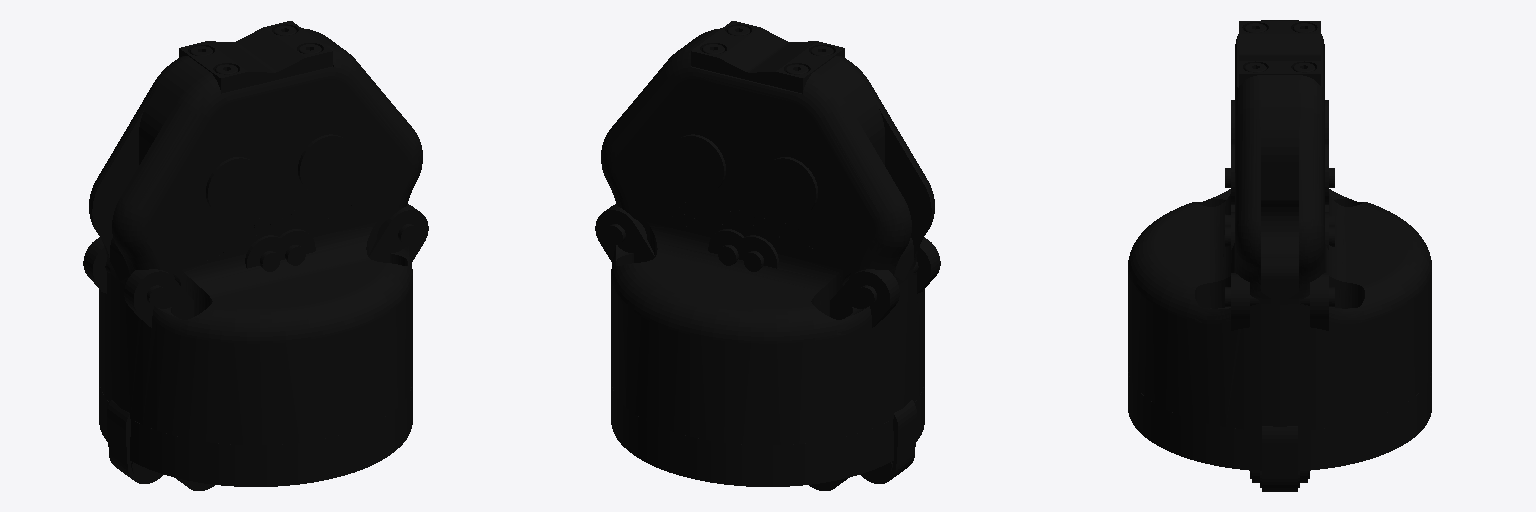
The robot description file, URDF, robot "robotiq_2f85_description":
<robot
  name="robotiq_2f85_description">
  <link
    name="robotiq_base">
    <inertial>
      <origin
        xyz="0.00021987 -2.3546E-10 0.030163"
        rpy="0 0 0" />
      <mass
        value="0.30915" />
      <inertia
        ixx="0.00028972"
        ixy="-5.7879E-10"
        ixz="-1.8543E-06"
        iyy="0.00030737"
        iyz="1.682E-12"
        izz="0.00019914" />
    </inertial>
    <visual>
      <origin
        xyz="0 0 0"
        rpy="0 0 0" />
      <geometry>
        <mesh
          filename="visual/robotiq_base_fine.obj" />
      </geometry>
      <material
        name="">
        <color
          rgba="0.1 0.1 0.1 1" />
      </material>
    </visual>
    <collision>
      <origin
        xyz="0 0 0"
        rpy="0 0 0" />
      <geometry>
        <mesh
          filename="collision/robotiq_base_coarse.obj" />
      </geometry>
    </collision>
  </link>
  <link
    name="left_outer_knuckle">
    <inertial>
      <origin
        xyz="0.0178331863169983 3.68915177224286E-11 0.0021442477325704"
        rpy="0 0 0" />
      <mass
        value="0.00684838849434396" />
      <inertia
        ixx="2.66832029033166E-07"
        ixy="1.66142314639824E-15"
        ixz="1.45945633322873E-07"
        iyy="1.3889233257419E-06"
        iyz="2.82951161241588E-15"
        izz="1.26603336914415E-06" />
    </inertial>
    <visual>
      <origin
        xyz="0 0 0"
        rpy="0 0 0" />
      <geometry>
        <mesh
          filename="visual/outer_knuckle_fine.obj" />
      </geometry>
      <material
        name="">
        <color
          rgba="0.1 0.1 0.1 1" />
      </material>
    </visual>
    <collision>
      <origin
        xyz="0 0 0"
        rpy="0 0 0" />
      <geometry>
        <mesh
          filename="collision/outer_knuckle_coarse.obj" />
      </geometry>
    </collision>
  </link>
  <joint
    name="finger_joint"
    type="revolute">
    <origin
      xyz="0.0306011444260539 0 0.0627920162695395"
      rpy="0 0 0" />
    <parent
      link="robotiq_base" />
    <child
      link="left_outer_knuckle" />
    <axis
      xyz="0 -1 0" />
    <limit
	  lower="0"
      upper="0.725"
      velocity="2.0"
      effort="1000" />
  </joint>
  <link
    name="left_outer_finger">
    <inertial>
      <origin
        xyz="0.00131451599174296 2.88942057994543E-15 0.0215404163180413"
        rpy="0 0 0" />
      <mass
        value="0.0273093985570947" />
      <inertia
        ixx="8.51629628283022E-06"
        ixy="2.58174336207405E-19"
        ixz="3.83829504344079E-07"
        iyy="6.9133328065108E-06"
        iyz="-7.58589926143789E-19"
        izz="2.25006832221981E-06" />
    </inertial>
    <visual>
      <origin
        xyz="0 0 0"
        rpy="0 0 0" />
      <geometry>
        <mesh
          filename="visual/outer_finger_fine.obj" />
      </geometry>
      <material
        name="">
        <color
          rgba="0.1 0.1 0.1 1" />
      </material>
    </visual>
    <collision>
      <origin
        xyz="0 0 0"
        rpy="0 0 0" />
      <geometry>
        <mesh
          filename="collision/outer_finger_coarse.obj" />
      </geometry>
    </collision>
  </link>
  <joint
    name="left_outer_finger_joint"
    type="fixed">
    <origin
      xyz="0.0316910442266543 0 -0.00193396375724605"
      rpy="0 0 0" />
    <parent
      link="left_outer_knuckle" />
    <child
      link="left_outer_finger" />
    <axis
      xyz="0 -1 0" />
  </joint>
  <link
    name="left_inner_knuckle">
    <inertial>
      <origin
        xyz="0.017097546626628 -3.93808524389535E-10 0.0224918438201868"
        rpy="0 0 0" />
      <mass
        value="0.0110930853895903" />
      <inertia
        ixx="4.23392770691541E-06"
        ixy="5.748978936968E-15"
        ixz="1.78855677119788E-06"
        iyy="3.96548790524392E-06"
        iyz="1.05464666369669E-14"
        izz="3.24068002883007E-06" />
    </inertial>
    <visual>
      <origin
        xyz="0 0 0"
        rpy="0 0 0" />
      <geometry>
        <mesh
          filename="visual/inner_knuckle_fine.obj" />
      </geometry>
      <material
        name="">
        <color
          rgba="0.1 0.1 0.1 1" />
      </material>
    </visual>
    <collision>
      <origin
        xyz="0 0 0"
        rpy="0 0 0" />
      <geometry>
        <mesh
          filename="collision/inner_knuckle_coarse.obj" />
      </geometry>
    </collision>
  </link>
  <joint
    name="left_inner_knuckle_joint"
    type="revolute">
    <origin
      xyz="0.0127000000001501 0 0.0693074999999639"
      rpy="0 0 0" />
    <parent
      link="robotiq_base" />
    <child
      link="left_inner_knuckle" />
    <axis
      xyz="0 -1 0" />
    <limit
      lower="0"
      upper="0.8757"
      velocity="2.0"
      effort="1000" />
    <mimic 
      joint="finger_joint"
      multiplier="1"
      offset="0" />
  </joint>
  <link
    name="left_inner_finger">
    <inertial>
      <origin
        xyz="0.0060275613594574 -6.29183141465421E-15 0.00669925693133241"
        rpy="0 0 0" />
      <mass
        value="0.00724255346165745" />
      <inertia
        ixx="1.47824274053603E-06"
        ixy="-3.94884463570303E-19"
        ixz="-3.45268847648622E-07"
        iyy="1.70064480838395E-06"
        iyz="3.5059838910097E-19"
        izz="4.77151336838364E-07" />
    </inertial>
    <visual>
      <origin
        xyz="0 0 0"
        rpy="0 0 0" />
      <geometry>
        <mesh
          filename="visual/inner_finger_fine.obj" />
      </geometry>
      <material
        name="">
        <color
          rgba="0.1 0.1 0.1 1" />
      </material>
    </visual>
    <collision>
      <origin
        xyz="0 0 0"
        rpy="0 0 0" />
      <geometry>
        <mesh
          filename="collision/inner_finger_coarse.obj" />
      </geometry>
    </collision>
  </link>
  <joint
    name="left_inner_finger_joint"
    type="revolute">
    <origin
      xyz="0.034585310861294 0 0.0454970193817975"
      rpy="0 0 0" />
    <parent
      link="left_inner_knuckle" />
    <child
      link="left_inner_finger" />
    <axis
      xyz="0 -1 0" />
    <limit
      lower="0"
      upper="0.8757"
      velocity="2.0"
      effort="1000" />
    <mimic 
      joint="finger_joint"
      multiplier="-1"
      offset="0" />
  </joint>
  <link
    name="right_inner_knuckle">
    <inertial>
      <origin
        xyz="0.0168606186773776 3.93808471820465E-10 0.0226699950793434"
        rpy="0 0 0" />
      <mass
        value="0.0110930853895903" />
      <inertia
        ixx="4.27134775939882E-06"
        ixy="-8.53568456728898E-15"
        ixz="1.77774229944246E-06"
        iyy="3.96548790524392E-06"
        iyz="-8.45108024914164E-15"
        izz="3.20325997634666E-06" />
    </inertial>
    <visual>
      <origin
        xyz="0 0 0"
        rpy="0 0 0" />
      <geometry>
        <mesh
          filename="visual/inner_knuckle_fine.obj" />
      </geometry>
      <material
        name="">
        <color
          rgba="0.1 0.1 0.1 1" />
      </material>
    </visual>
    <collision>
      <origin
        xyz="0 0 0"
        rpy="0 0 0" />
      <geometry>
        <mesh
          filename="collision/inner_knuckle_coarse.obj" />
      </geometry>
    </collision>
  </link>
  <joint
    name="right_inner_knuckle_joint"
    type="revolute">
    <origin
      xyz="-0.0126999999998499 0 0.0693075000000361"
      rpy="0 0 3.14159265358979" />
    <parent
      link="robotiq_base" />
    <child
      link="right_inner_knuckle" />
    <axis
      xyz="0 1 0" />
    <limit
      lower="0"
      upper="0.8757"
      velocity="2.0"
      effort="1000" />
    <mimic 
      joint="finger_joint"
      multiplier="-1"
      offset="0" />
  </joint>
  <link
    name="right_inner_finger">
    <inertial>
      <origin
        xyz="0.00602756228812038 -6.47284509480176E-15 0.00669925609578108"
        rpy="0 0 0" />
      <mass
        value="0.00724255346165744" />
      <inertia
        ixx="1.47824283625957E-06"
        ixy="-3.95952064019123E-19"
        ixz="-3.45268708875543E-07"
        iyy="1.70064480838394E-06"
        iyz="3.55286507960029E-19"
        izz="4.77151241114822E-07" />
    </inertial>
    <visual>
      <origin
        xyz="0 0 0"
        rpy="0 0 0" />
      <geometry>
        <mesh
          filename="visual/inner_finger_fine.obj" />
      </geometry>
      <material
        name="">
        <color
          rgba="0.1 0.1 0.1 1" />
      </material>
    </visual>
    <collision>
      <origin
        xyz="0 0 0"
        rpy="0 0 0" />
      <geometry>
        <mesh
          filename="collision/inner_finger_coarse.obj" />
      </geometry>
    </collision>
  </link>
  <joint
    name="right_inner_finger_joint"
    type="revolute">
    <origin
      xyz="0.0341060475457406 0 0.0458573878541688"
      rpy="0 0 0" />
    <parent
      link="right_inner_knuckle" />
    <child
      link="right_inner_finger" />
    <axis
      xyz="0 1 0" />
    <limit
      lower="0"
      upper="0.8757"
      velocity="2.0"
      effort="1000" />
    <mimic 
      joint="finger_joint"
      multiplier="1"
      offset="0" />
  </joint>
  <link
    name="right_outer_knuckle">
    <inertial>
      <origin
        xyz="0.0178097074051638 3.60493211424024E-11 0.00233123458346721"
        rpy="0 0 0" />
      <mass
        value="0.00684838849401352" />
      <inertia
        ixx="2.70004361573169E-07"
        ixy="1.59579467624491E-15"
        ixz="1.56396493788199E-07"
        iyy="1.38892332558312E-06"
        iyz="2.82357800318817E-15"
        izz="1.26286103637978E-06" />
    </inertial>
    <visual>
      <origin
        xyz="0 0 0"
        rpy="0 0 0" />
      <geometry>
        <mesh
          filename="visual/outer_knuckle_fine.obj" />
      </geometry>
      <material
        name="">
        <color
          rgba="0.1 0.1 0.1 1" />
      </material>
    </visual>
    <collision>
      <origin
        xyz="0 0 0"
        rpy="0 0 0" />
      <geometry>
        <mesh
          filename="collision/outer_knuckle_coarse.obj" />
      </geometry>
    </collision>
  </link>
  <joint
    name="right_outer_knuckle_joint"
    type="revolute">
    <origin
      xyz="-0.0306011444258893 0 0.0627920162695395"
      rpy="0 0 3.14159265358979" />
    <parent
      link="robotiq_base" />
    <child
      link="right_outer_knuckle" />
    <axis
      xyz="0 1 0" />
    <limit
      lower="0"
      upper="0.8757"
      velocity="2.0"
      effort="1000" />
    <mimic 
      joint="finger_joint"
      multiplier="-1"
      offset="0" />
  </joint>
  <link
    name="right_outer_finger">
    <inertial>
      <origin
        xyz="0.00108844269639009 -2.611488350845E-15 0.0215530225245502"
        rpy="0 0 0" />
      <mass
        value="0.0273093985570947" />
      <inertia
        ixx="8.52366028592721E-06"
        ixy="3.41683380899422E-19"
        ixz="3.18003675694284E-07"
        iyy="6.91333280651081E-06"
        iyz="7.37726682706417E-19"
        izz="2.24270431912283E-06" />
    </inertial>
    <visual>
      <origin
        xyz="0 0 0"
        rpy="0 0 0" />
      <geometry>
        <mesh
          filename="visual/outer_finger_fine.obj" />
      </geometry>
      <material
        name="">
        <color
          rgba="0.1 0.1 0.1 1" />
      </material>
    </visual>
    <collision>
      <origin
        xyz="0 0 0"
        rpy="0 0 0" />
      <geometry>
        <mesh
          filename="collision/outer_finger_coarse.obj" />
      </geometry>
    </collision>
  </link>
  <joint
    name="right_outer_finger_joint"
    type="fixed">
    <origin
      xyz="0.0317095909367246 0 -0.0016013564954687"
      rpy="0 0 0" />
    <parent
      link="right_outer_knuckle" />
    <child
      link="right_outer_finger" />
    <axis
      xyz="0 1 0" />
  </joint>
</robot>

--- What the picture shows (computed from the rendered views, not written in the file) ---
3 views of the same robot in one strip: view 1: azimuth 30°, elevation 25°; view 2: azimuth 150°, elevation 25°; view 3: azimuth 270°, elevation 25° (orthographic).
Model robotiq_2f85_description with 9 links and 8 joints (6 revolute, 2 fixed), rooted at robotiq_base, posed every joint at zero.
Links seen in each view (by area): view 1: robotiq_base, right_inner_knuckle, left_inner_knuckle, right_outer_knuckle, right_outer_finger, left_outer_finger; view 2: robotiq_base, right_inner_knuckle, left_inner_knuckle, right_outer_knuckle, right_outer_finger, left_outer_finger; view 3: robotiq_base, left_outer_knuckle, left_inner_knuckle.
Link boxes in pixels (x1,y1,x2,y2): robotiq_base: (89,21,422,486); right_inner_knuckle: (83,237,193,327); left_inner_knuckle: (369,204,428,262); right_outer_knuckle: (107,400,163,483); right_outer_finger: (245,235,286,271); left_outer_finger: (275,229,315,265); robotiq_base: (601,21,934,486); right_inner_knuckle: (830,237,940,327); left_inner_knuckle: (595,204,654,262); right_outer_knuckle: (860,400,916,483); right_outer_finger: (735,235,778,271); left_outer_finger: (708,229,750,265); robotiq_base: (1128,20,1431,470); left_outer_knuckle: (1260,426,1299,491); left_inner_knuckle: (1225,273,1334,330).
Size in the robot's own frame: 8.49 by 7.5 by 10.93 metres.
Meshes: 5 distinct files referenced, 9 mesh visuals loaded (5 OBJ).